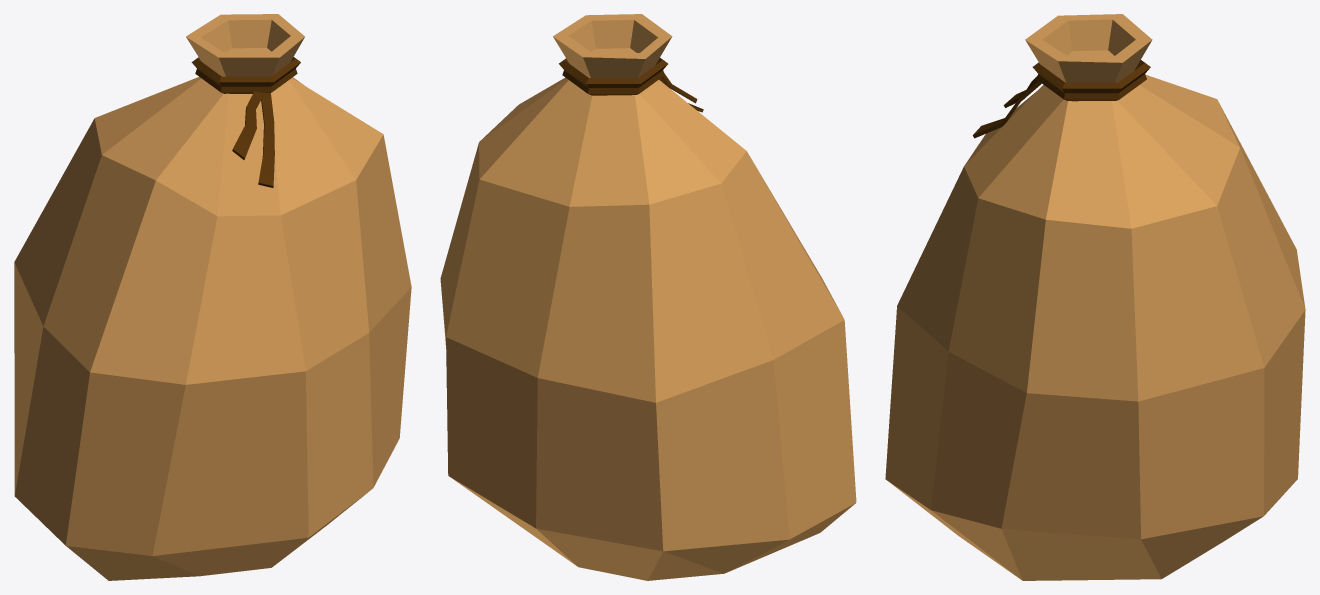
The model's file is bag.fbx.
3 renders of one model, left to right at view 1: azimuth 30°, elevation 25°; view 2: azimuth 150°, elevation 25°; view 3: azimuth 270°, elevation 25°, orthographic. The views are drawn at different scales.
Parts seen in each view (by area): view 1: rice01; view 2: rice01; view 3: rice01.
Boxes of the visible parts, <box> form: rice01: <box>14,14,411,580</box>; rice01: <box>440,14,856,580</box>; rice01: <box>885,14,1305,580</box>.
Bounding box in the file's own units: 0.4046 × 0.5095 × 0.3754.
